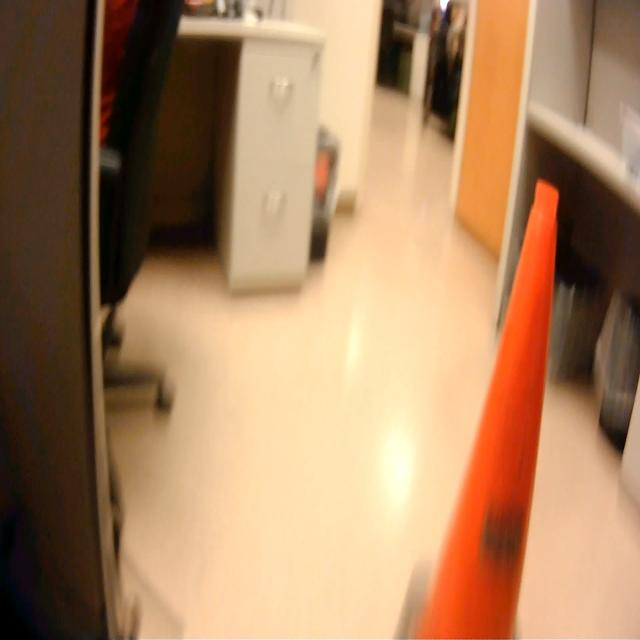traffic cone: (387, 164, 568, 640)
